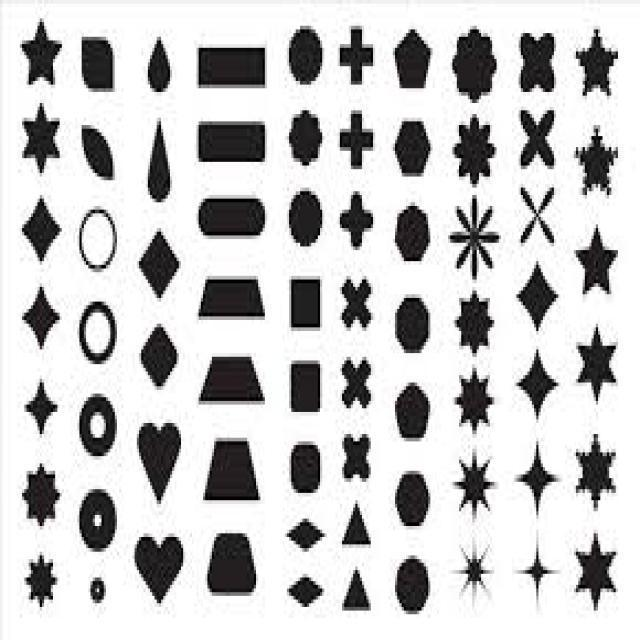circle: (72, 377, 125, 459), (76, 293, 123, 378), (73, 482, 130, 552), (72, 203, 126, 275), (283, 176, 328, 257), (283, 22, 328, 92)
cross: (512, 96, 566, 178), (323, 423, 380, 489), (336, 269, 384, 347), (335, 16, 380, 97), (333, 347, 383, 417), (336, 108, 381, 174), (339, 189, 380, 251)
square: (282, 269, 331, 336), (283, 347, 325, 425)
triangle: (336, 498, 382, 560), (339, 566, 377, 620)
